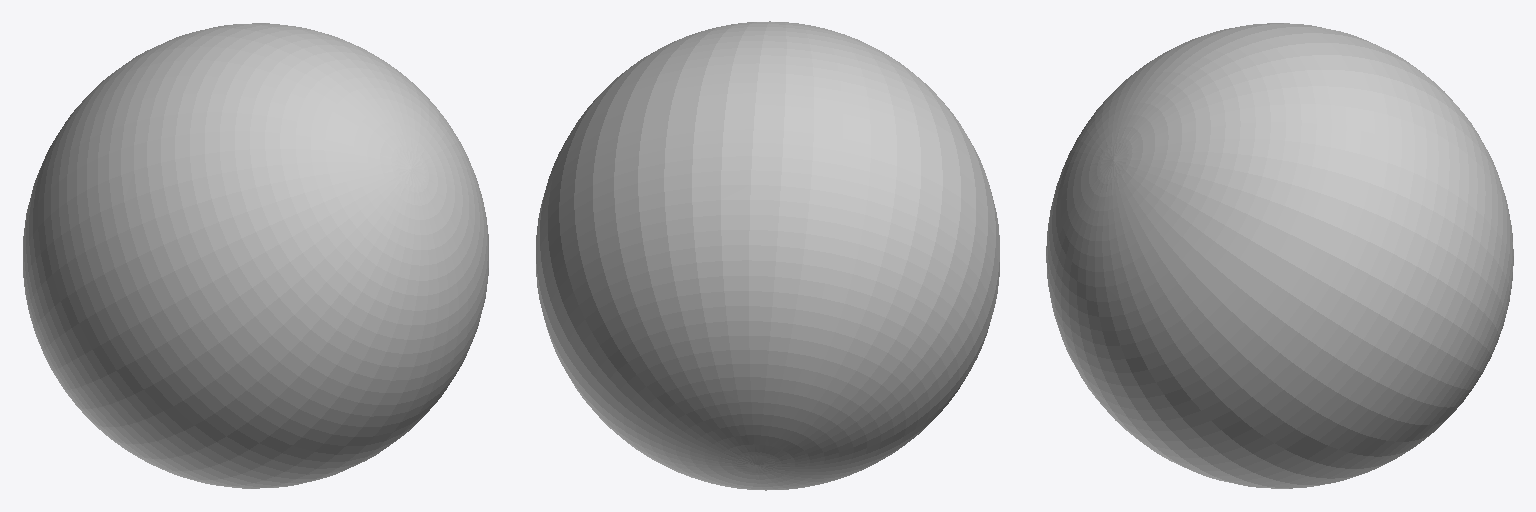
The model's file is matball_inner.obj.
3 renders of one model, left to right at view 1: azimuth 30°, elevation 25°; view 2: azimuth 150°, elevation 25°; view 3: azimuth 270°, elevation 25°, orthographic.
Visible parts, largest first — view 1: obj_[number redacted]; view 2: obj_[number redacted]; view 3: obj_[number redacted].
Boxes of the visible parts, x1=… form: obj_[number redacted]: x1=23, y1=23, x2=488, y2=488; obj_[number redacted]: x1=536, y1=21, x2=999, y2=490; obj_[number redacted]: x1=1046, y1=23, x2=1513, y2=488.
Size of the model in its own units: 0.3252 by 0.3259 by 0.3264.